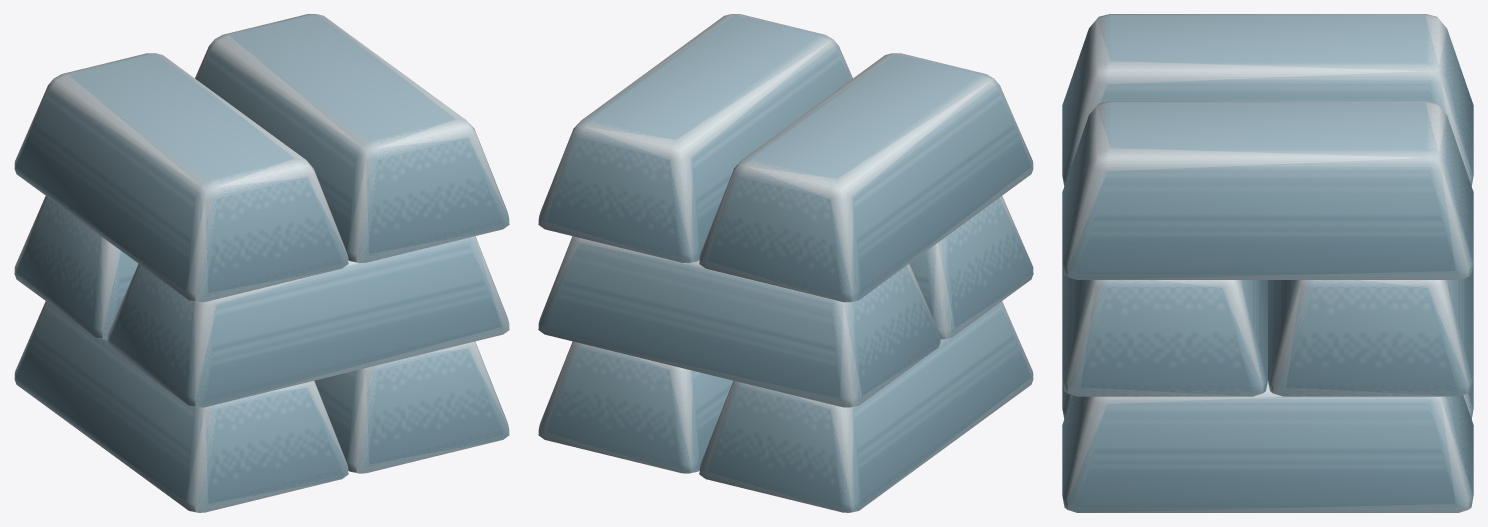
File: Silver_Bars_Stack_Small.gltf
The picture shows the model from 3 angles, left to right: view 1: azimuth 30°, elevation 25°; view 2: azimuth 150°, elevation 25°; view 3: azimuth 270°, elevation 25°; orthographic projection. The views are drawn at different scales.
Visible parts, largest first — view 1: Silver_Bars_Stack_Small; view 2: Silver_Bars_Stack_Small; view 3: Silver_Bars_Stack_Small.
Boxes of the visible parts, x1,y1,x2,y2 form: Silver_Bars_Stack_Small: [14, 14, 509, 512]; Silver_Bars_Stack_Small: [538, 14, 1033, 512]; Silver_Bars_Stack_Small: [1062, 14, 1473, 512].
Size of the model in its own units: 0.8 by 0.75 by 0.8.
1 material, 1 textured.
